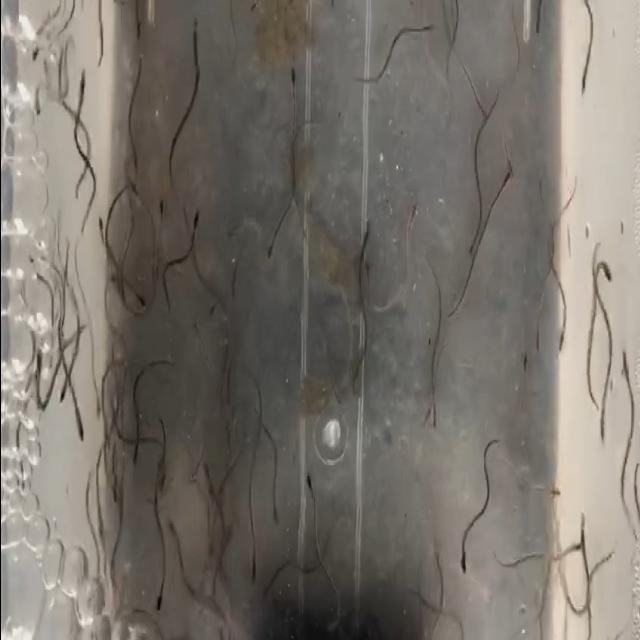active_glass_eel: (425, 388, 453, 438), (16, 34, 42, 82), (260, 228, 282, 280), (416, 9, 438, 59), (509, 345, 535, 385), (503, 156, 519, 216), (406, 194, 422, 248), (466, 208, 482, 260), (298, 475, 316, 521), (244, 546, 262, 592), (183, 18, 200, 66), (126, 439, 148, 473), (70, 69, 88, 109), (199, 457, 219, 493), (354, 206, 374, 241), (454, 540, 468, 589), (32, 261, 50, 299), (437, 338, 454, 378), (71, 409, 88, 448), (600, 247, 614, 293), (89, 400, 103, 446), (582, 596, 596, 640), (188, 202, 208, 232), (118, 121, 134, 157), (499, 103, 522, 128), (154, 184, 167, 228), (288, 40, 298, 96), (546, 477, 562, 510), (30, 102, 48, 130), (472, 70, 484, 110), (163, 518, 177, 551), (598, 408, 608, 454), (328, 368, 340, 406), (268, 493, 280, 531), (89, 365, 100, 406), (153, 577, 163, 621), (570, 528, 584, 559), (153, 443, 170, 468), (574, 66, 588, 96), (98, 363, 110, 397), (552, 329, 566, 358), (446, 615, 462, 640), (532, 8, 544, 41), (132, 284, 146, 312), (204, 300, 220, 324), (107, 474, 118, 506), (622, 414, 632, 448), (96, 216, 110, 238), (55, 386, 69, 408), (239, 208, 247, 230)
